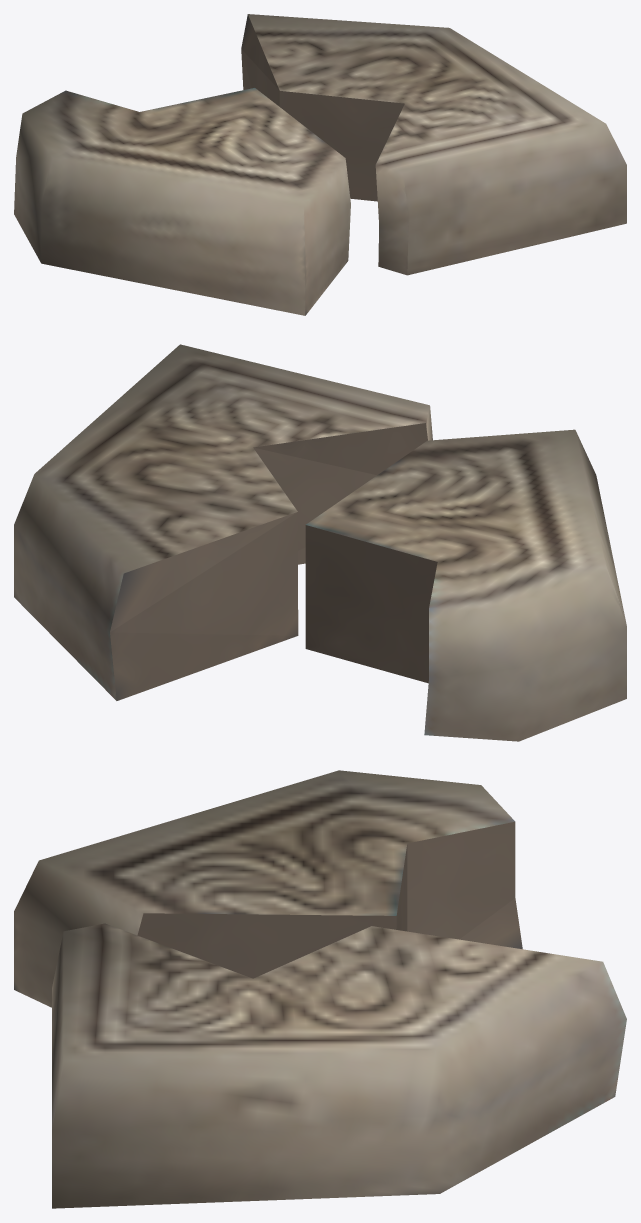
Rendered from broken_monstone_4.FBX.
The picture shows the model from 3 angles, top to bottom: view 1: azimuth 30°, elevation 25°; view 2: azimuth 150°, elevation 25°; view 3: azimuth 270°, elevation 25°; orthographic projection. The views are drawn at different scales.
Parts seen in each view (by area): view 1: Object020; view 2: Object020; view 3: Object020.
Part boxes in pixels (x1,y1,x2,y2): Object020: (14, 14, 626, 315); Object020: (14, 344, 626, 741); Object020: (14, 770, 626, 1208).
Bounding box in the file's own units: 0.6175 × 0.1237 × 0.5112.
